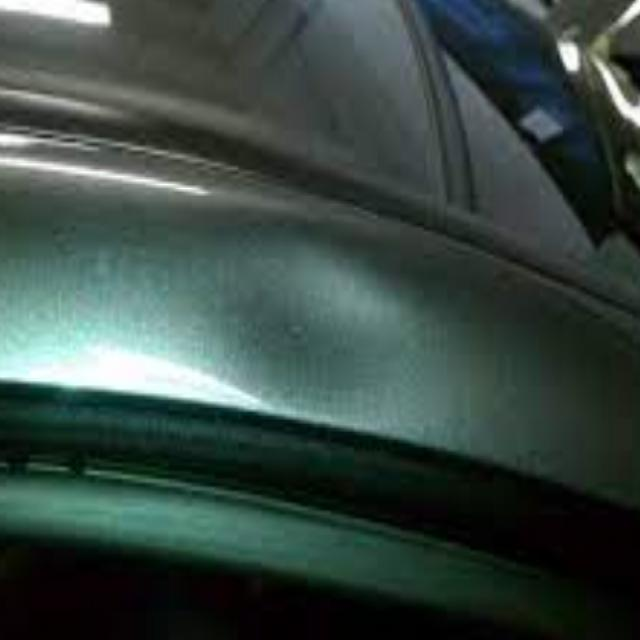dents: (234, 258, 434, 451)
